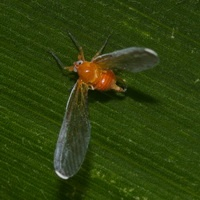insect: (54, 34, 158, 178)
